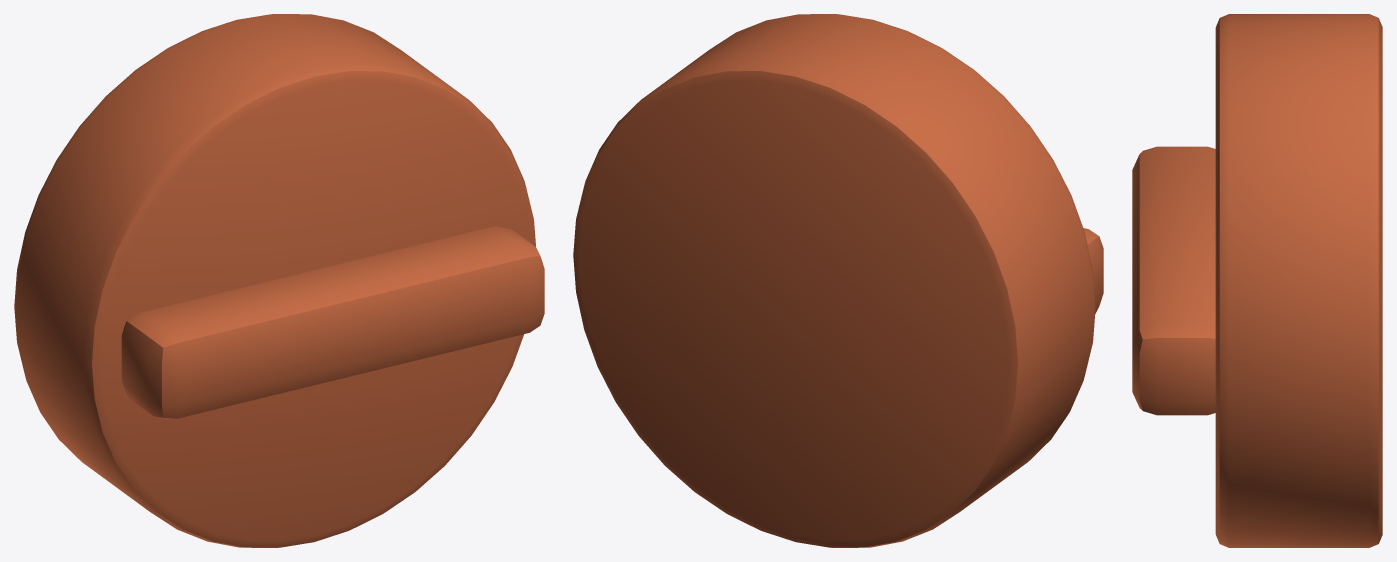
File: corded_drill_gear_selector.glb
The picture shows the model from 3 angles, left to right: view 1: azimuth 30°, elevation 25°; view 2: azimuth 150°, elevation 25°; view 3: azimuth 270°, elevation 25°; orthographic projection. The views are drawn at different scales.
Parts seen in each view (by area): view 1: corded_drill_gear_selector; view 2: corded_drill_gear_selector; view 3: corded_drill_gear_selector.
Part boxes in pixels (<box>): corded_drill_gear_selector: <box>14,14,544,547</box>; corded_drill_gear_selector: <box>573,14,1103,547</box>; corded_drill_gear_selector: <box>1132,14,1382,547</box>.
Bounding box in the file's own units: 0.032 × 0.032 × 0.015.
